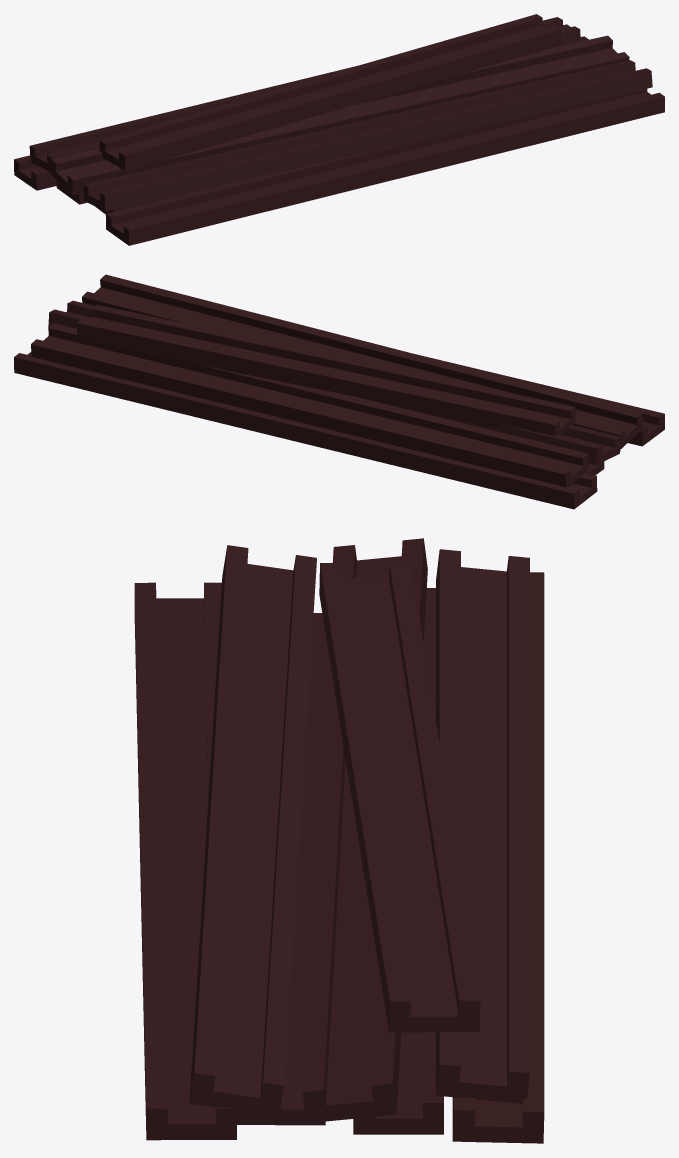
Rendered from SteelStacks_1.fbx.
3 views of the same model, one above another, from view 1: azimuth 30°, elevation 25°; view 2: azimuth 150°, elevation 25°; view 3: azimuth 270°, elevation 25° (orthographic). The views are drawn at different scales.
Parts seen in each view (by area): view 1: SteelStacks_1; view 2: SteelStacks_1; view 3: SteelStacks_1.
Boxes of the visible parts, bbox=[...] form: SteelStacks_1: bbox=[14, 14, 664, 245]; SteelStacks_1: bbox=[14, 274, 664, 509]; SteelStacks_1: bbox=[134, 538, 544, 1143].
Size of the model in its own units: 737 by 63.12 by 235.
